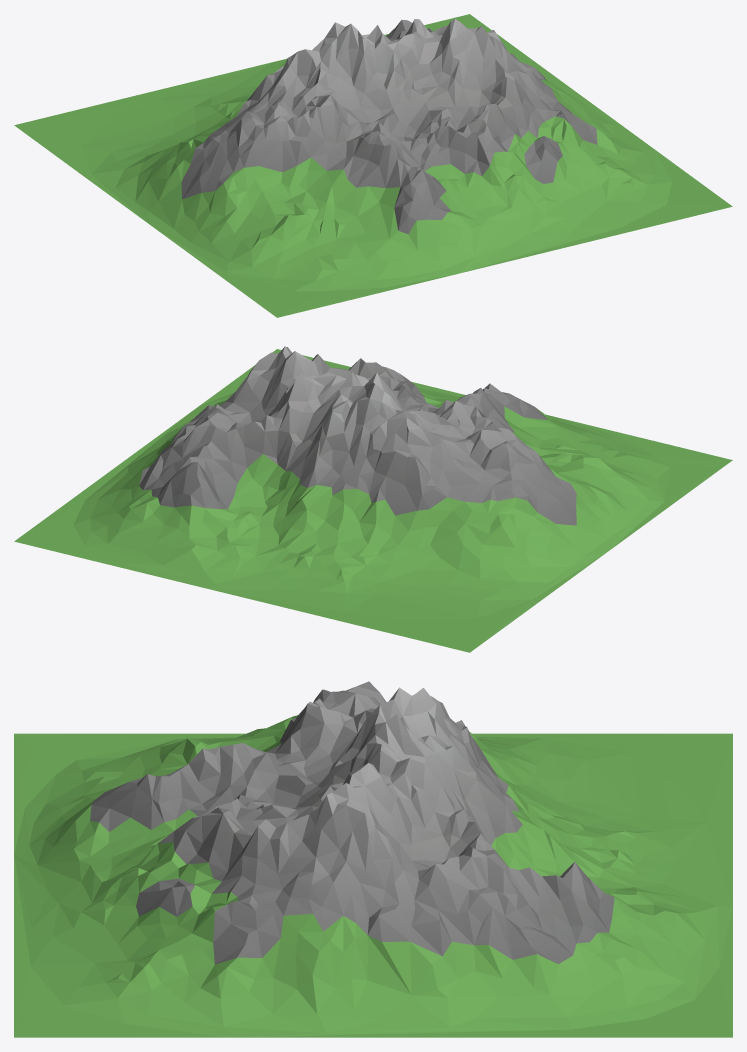
Rendered from SM_Nature_Landscape_06.fbx.
3 renders of one model, top to bottom at view 1: azimuth 30°, elevation 25°; view 2: azimuth 150°, elevation 25°; view 3: azimuth 270°, elevation 25°, orthographic. The views are drawn at different scales.
Parts seen in each view (by area): view 1: SM_Nature_Landscape_06; view 2: SM_Nature_Landscape_06; view 3: SM_Nature_Landscape_06.
Part boxes in pixels (left/top/right/bottom): SM_Nature_Landscape_06: left=14, top=14, right=732, bottom=317; SM_Nature_Landscape_06: left=14, top=346, right=732, bottom=652; SM_Nature_Landscape_06: left=14, top=681, right=732, bottom=1037.
Size of the model in its own units: 100 by 29.1 by 100.
